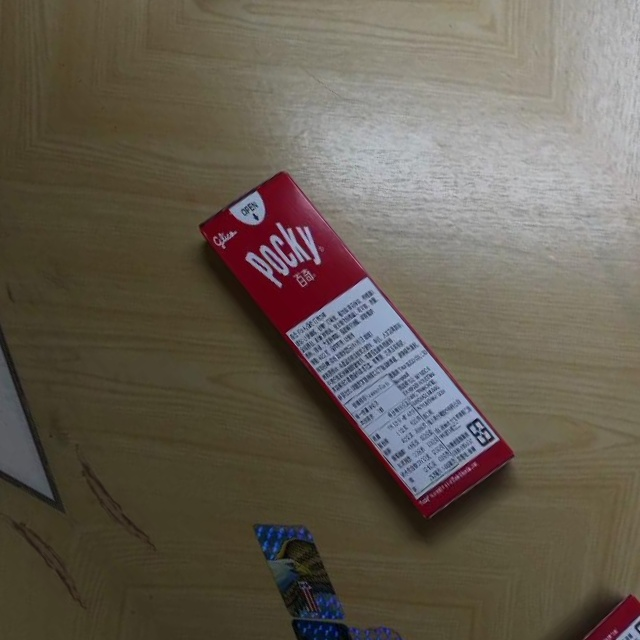Pocky: (183, 157, 521, 528)
